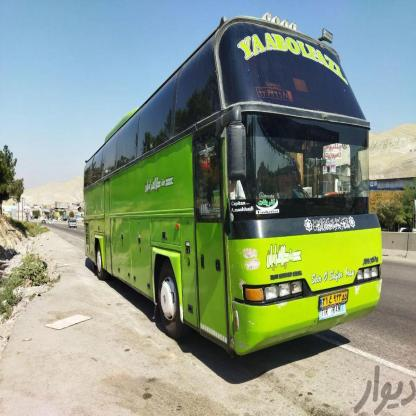Bus: (84, 10, 385, 368)
